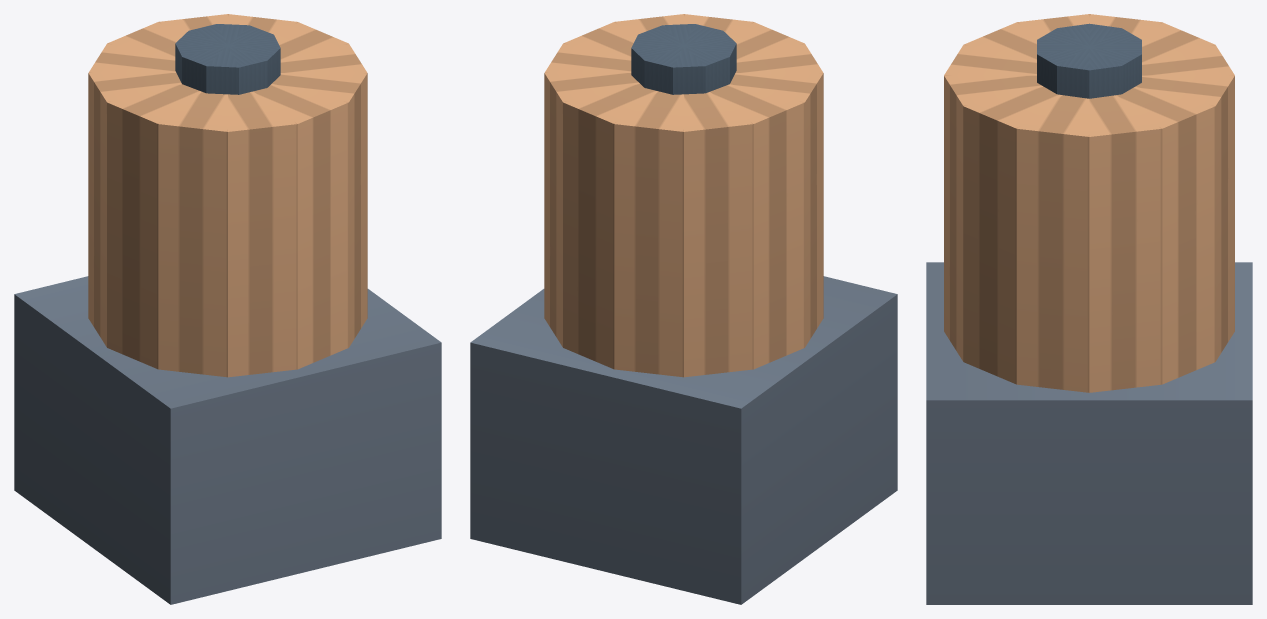
The model's file is water_tank.glb.
3 views of the same model, side by side, from view 1: azimuth 30°, elevation 25°; view 2: azimuth 150°, elevation 25°; view 3: azimuth 270°, elevation 25° (orthographic). The views are drawn at different scales.
Visible parts, largest first — view 1: water_tank; view 2: water_tank; view 3: water_tank.
Part boxes in pixels (<box>): water_tank: <box>14,14,441,604</box>; water_tank: <box>470,14,897,604</box>; water_tank: <box>926,14,1252,604</box>.
Size of the model in its own units: 1.3 by 2.15 by 1.3.
Materials: 1 (1 with a texture image).
